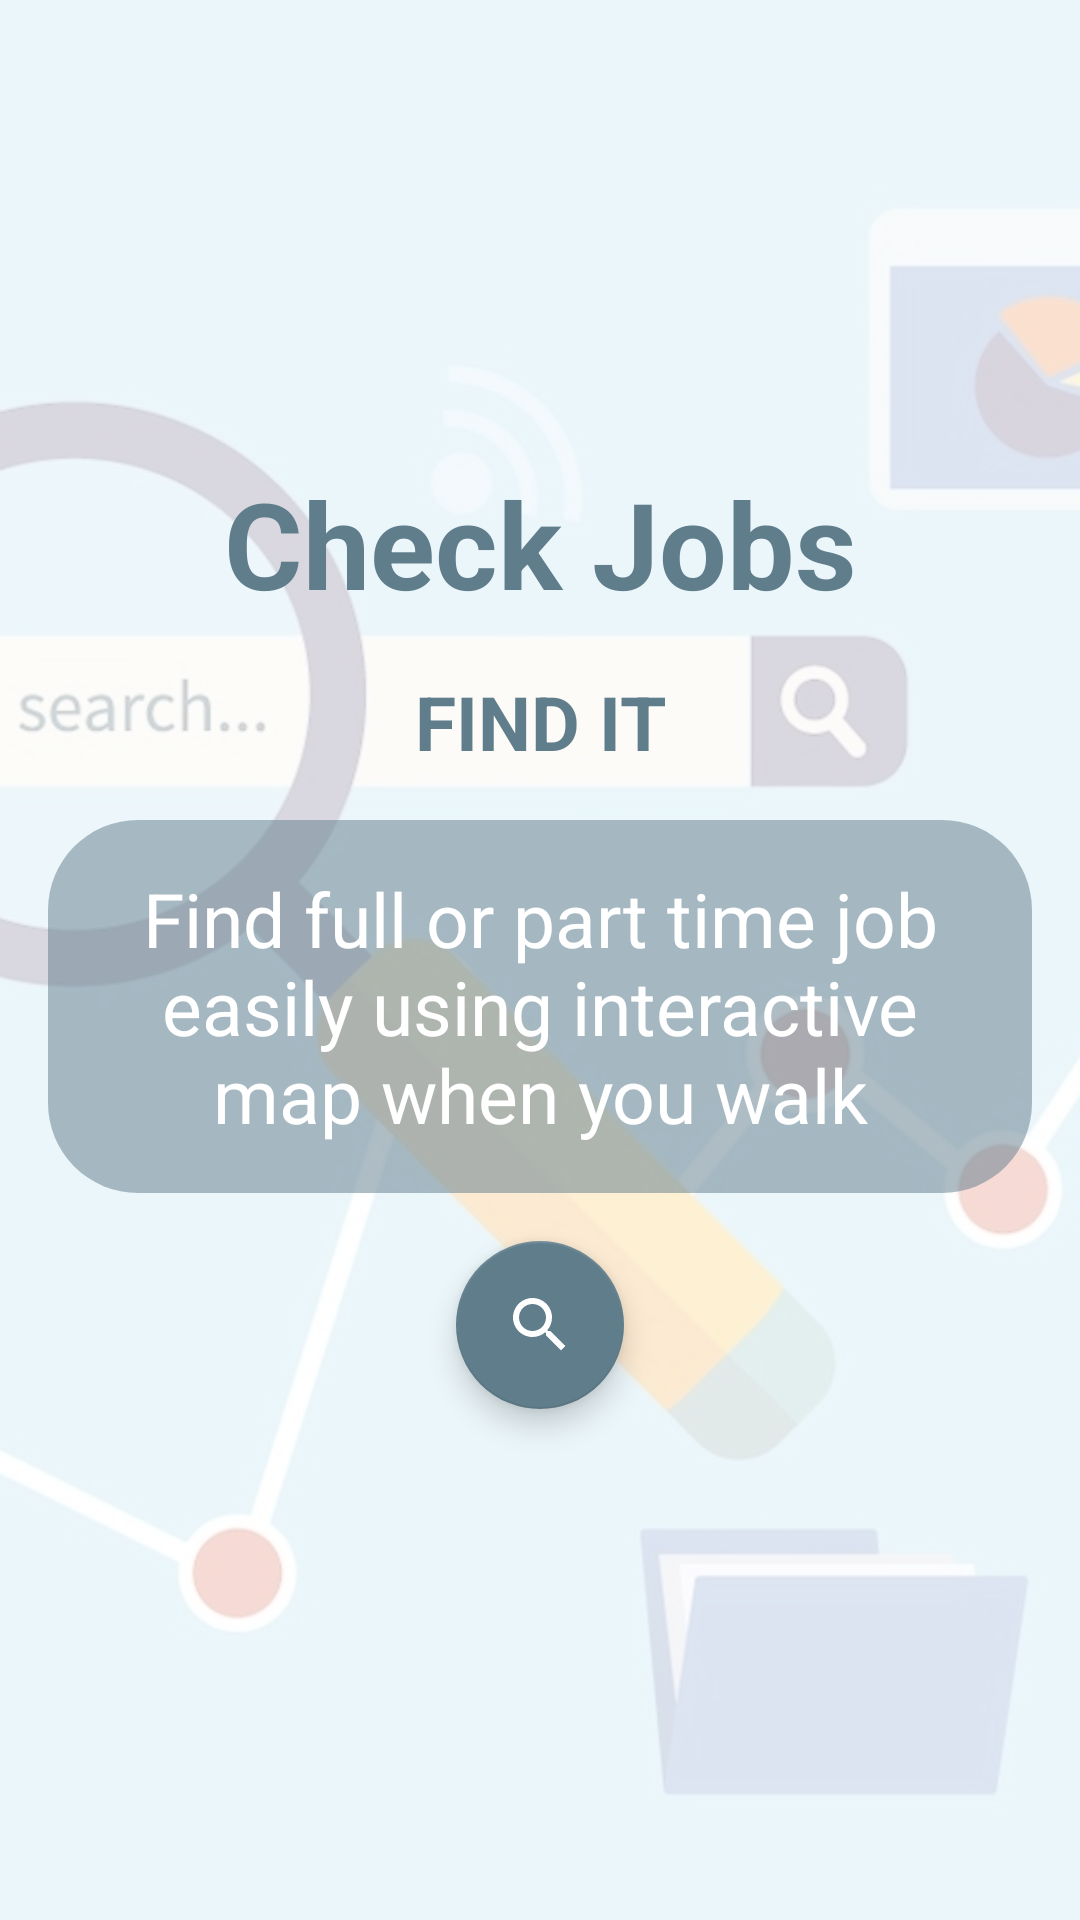

Icon click points for this 1080*1920 phone screenshot, format [x,y]:
search: [540,1325]
